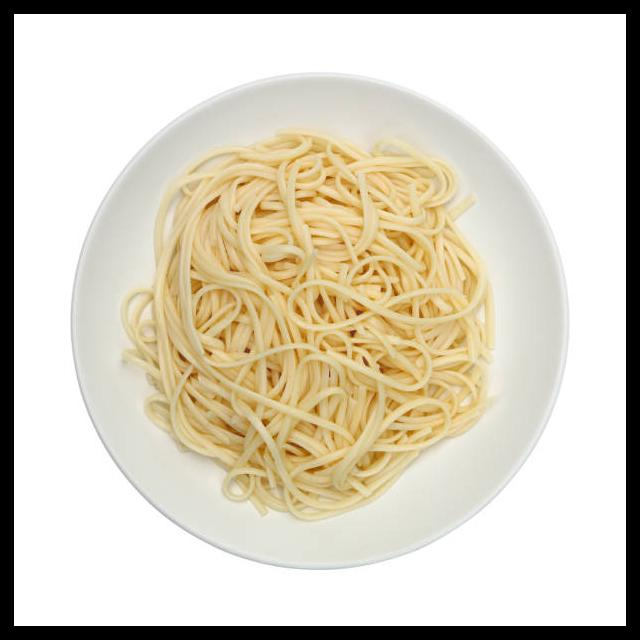noodles: (119, 128, 500, 522)
